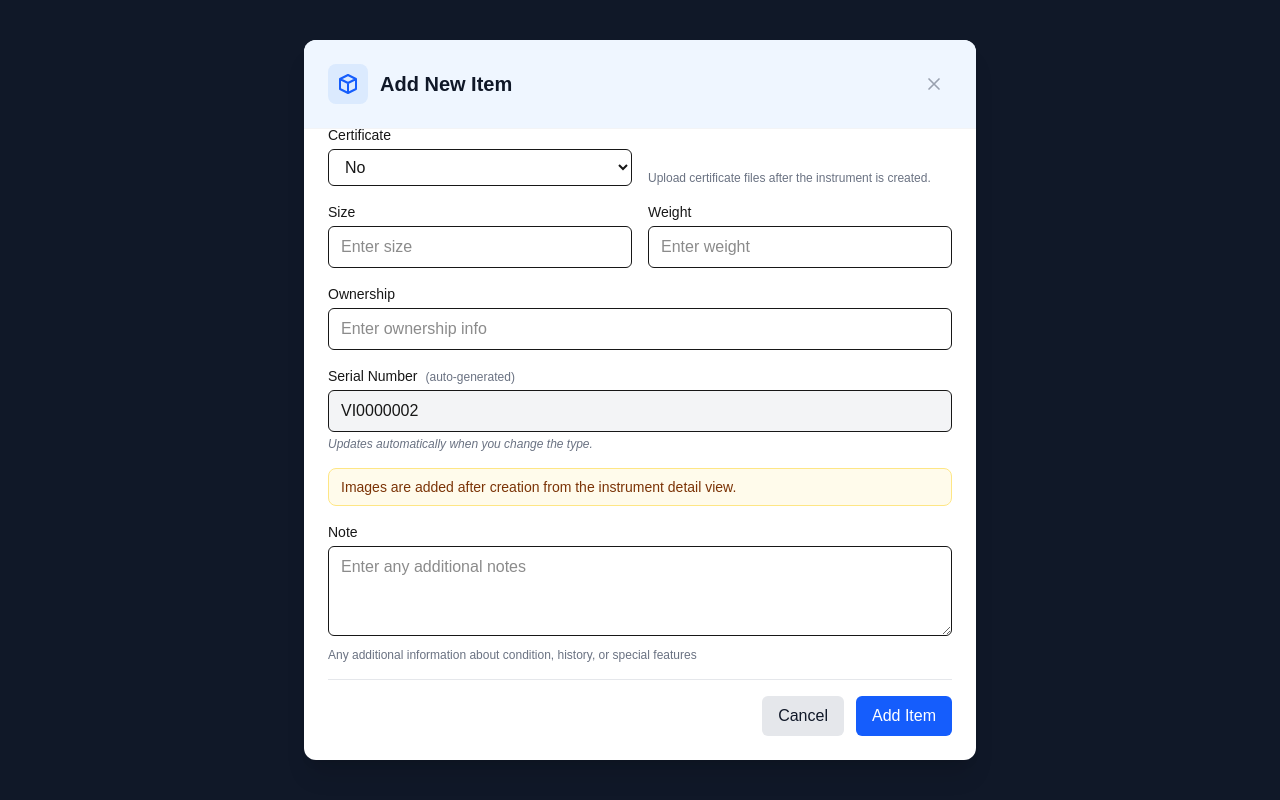
it: ItemForm › submits valid form data and shows success state
(page scrolled)
Click the button "Add Item": (904,716) [856,696,952,736]
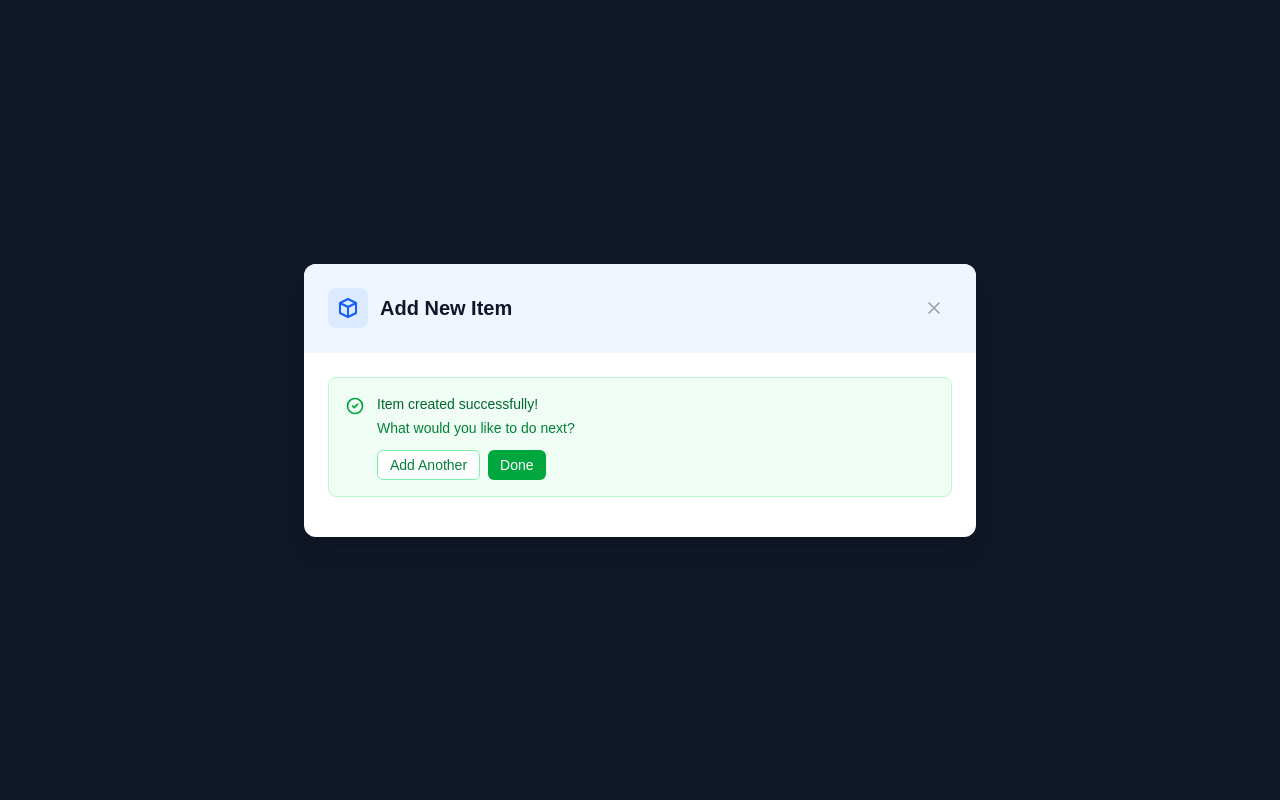
Now the heading "Item created successfully!" is shown, box [377,396,538,412]
